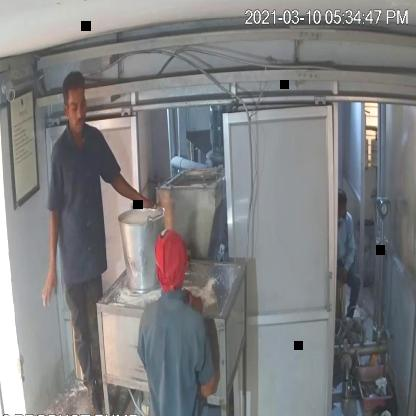no_glove: (33, 184, 68, 314), (107, 157, 152, 220)
